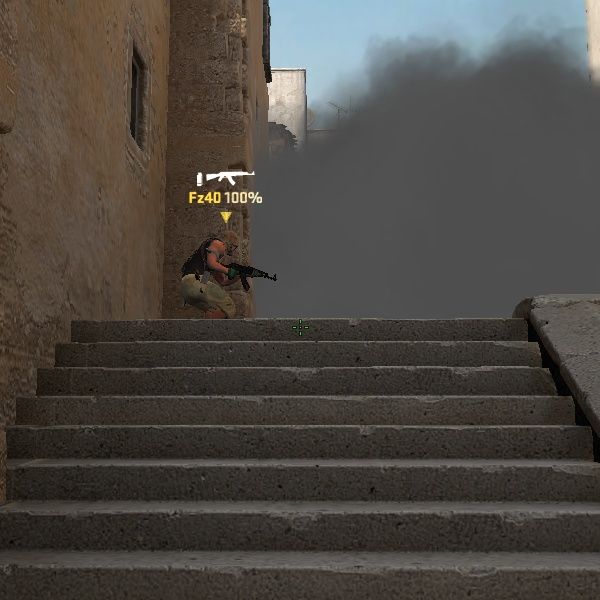t_body: (169, 223, 275, 324)
t_head: (214, 227, 249, 263)
